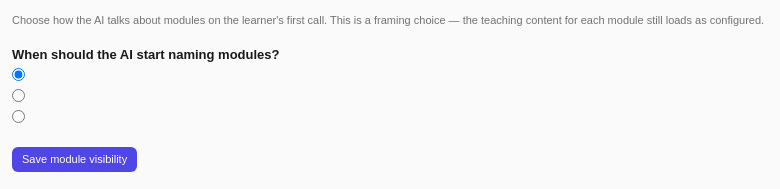
Test case: ModuleVisibilitySettings (#1405) › renders a 'Saved.' confirmation after a successful save
The width and height of the screenshot is (780, 189).
Click the button "Save module visibility" at (75, 159), box [12,147,137,172]
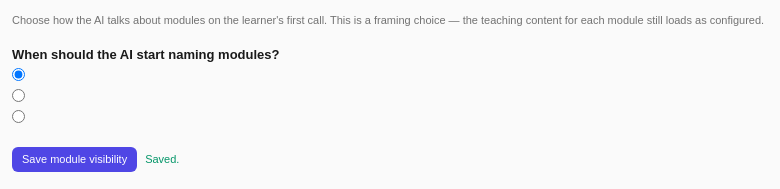
Expected: the text "Saved." is shown, [145,151,180,168]
